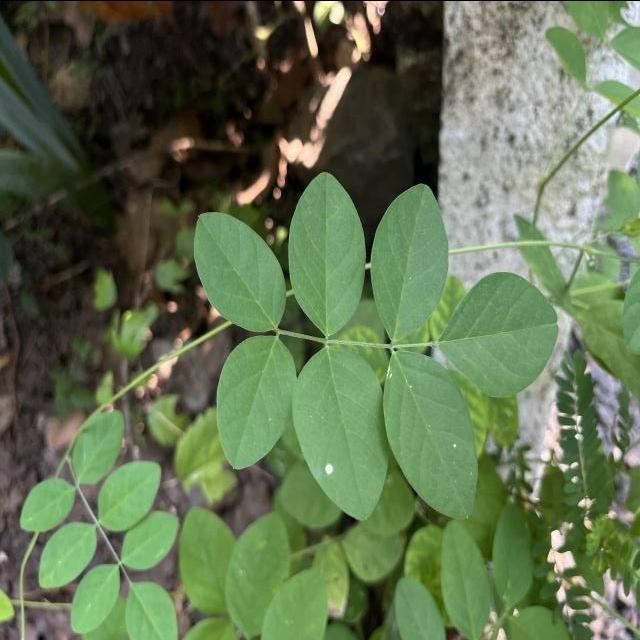Clitoria ternatea: (290, 344, 390, 521), (382, 348, 479, 519), (437, 268, 560, 398), (286, 168, 367, 336), (369, 182, 450, 342), (192, 209, 286, 332), (215, 333, 298, 470)
